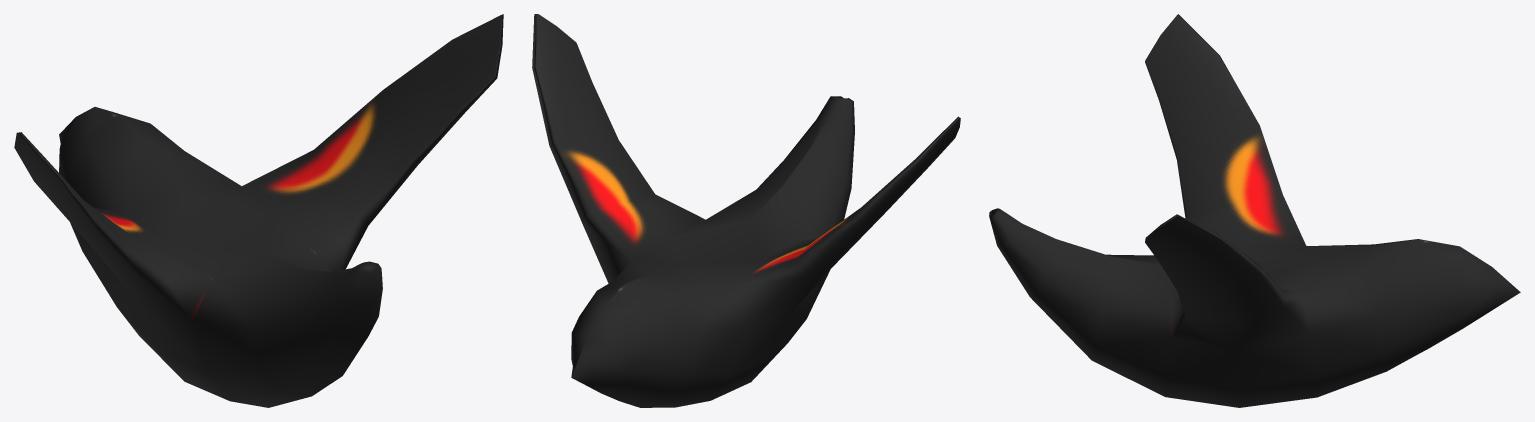
Rendered from Small_Bird_Model.obj.
3 renders of one model, left to right at view 1: azimuth 30°, elevation 25°; view 2: azimuth 150°, elevation 25°; view 3: azimuth 270°, elevation 25°, orthographic. The views are drawn at different scales.
Visible parts, largest first — view 1: Bird_Small Birds; view 2: Bird_Small Birds; view 3: Bird_Small Birds.
Boxes of the visible parts, x1,y1,x2,y2 form: Bird_Small Birds: [14, 14, 503, 407]; Bird_Small Birds: [532, 14, 960, 407]; Bird_Small Birds: [989, 14, 1520, 407].
Bounding box in the file's own units: 23.54 × 15.8 × 26.16.
